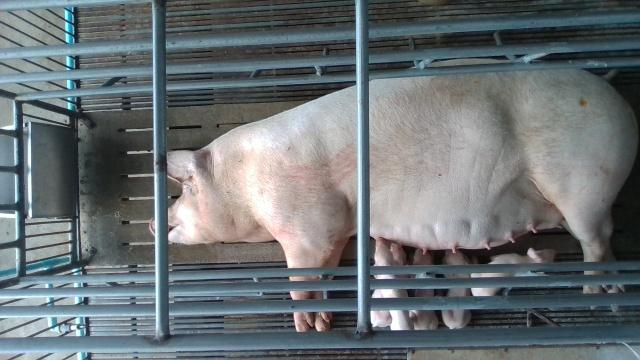piglet: (472, 247, 556, 298), (370, 236, 414, 330), (439, 248, 479, 334), (408, 248, 440, 331)
sow-sleep-lactate: (148, 58, 640, 332)
